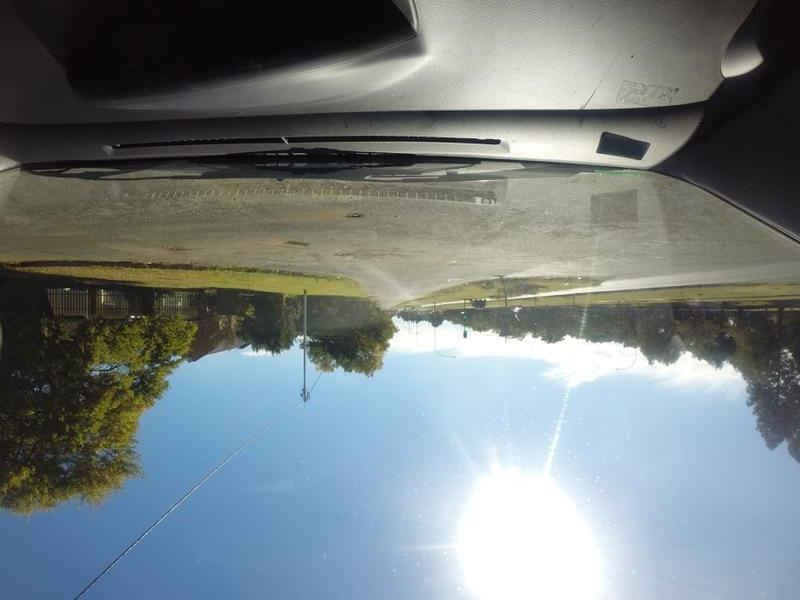pothole: (164, 241, 204, 255), (281, 235, 320, 246), (344, 212, 371, 220)
